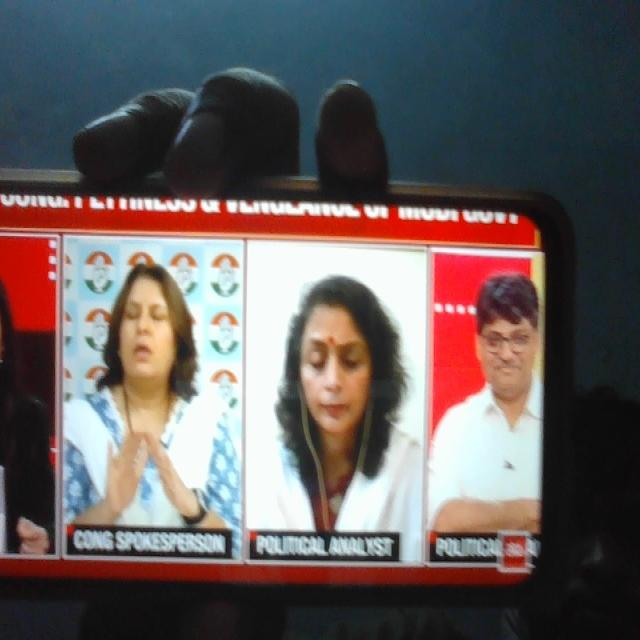fake: (282, 258, 390, 462)
